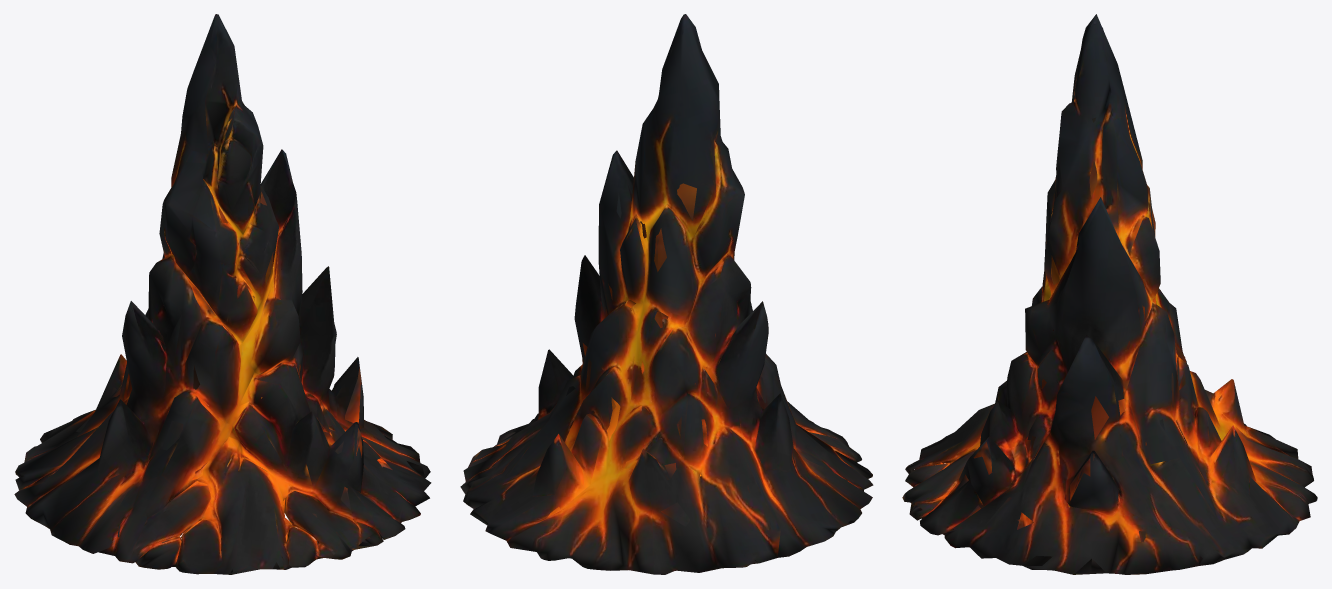
The model's file is lavaspike2.opt.glb.
3 views of the same model, side by side, from view 1: azimuth 30°, elevation 25°; view 2: azimuth 150°, elevation 25°; view 3: azimuth 270°, elevation 25° (orthographic).
Visible parts, largest first — view 1: node_0; view 2: node_0; view 3: node_0.
Boxes of the visible parts, bbox=[...] form: node_0: bbox=[14, 14, 431, 574]; node_0: bbox=[460, 14, 873, 574]; node_0: bbox=[902, 14, 1317, 574].
Bounding box in the file's own units: 0.7328 × 0.9346 × 0.747.
Materials: 1 (1 with a texture image).
